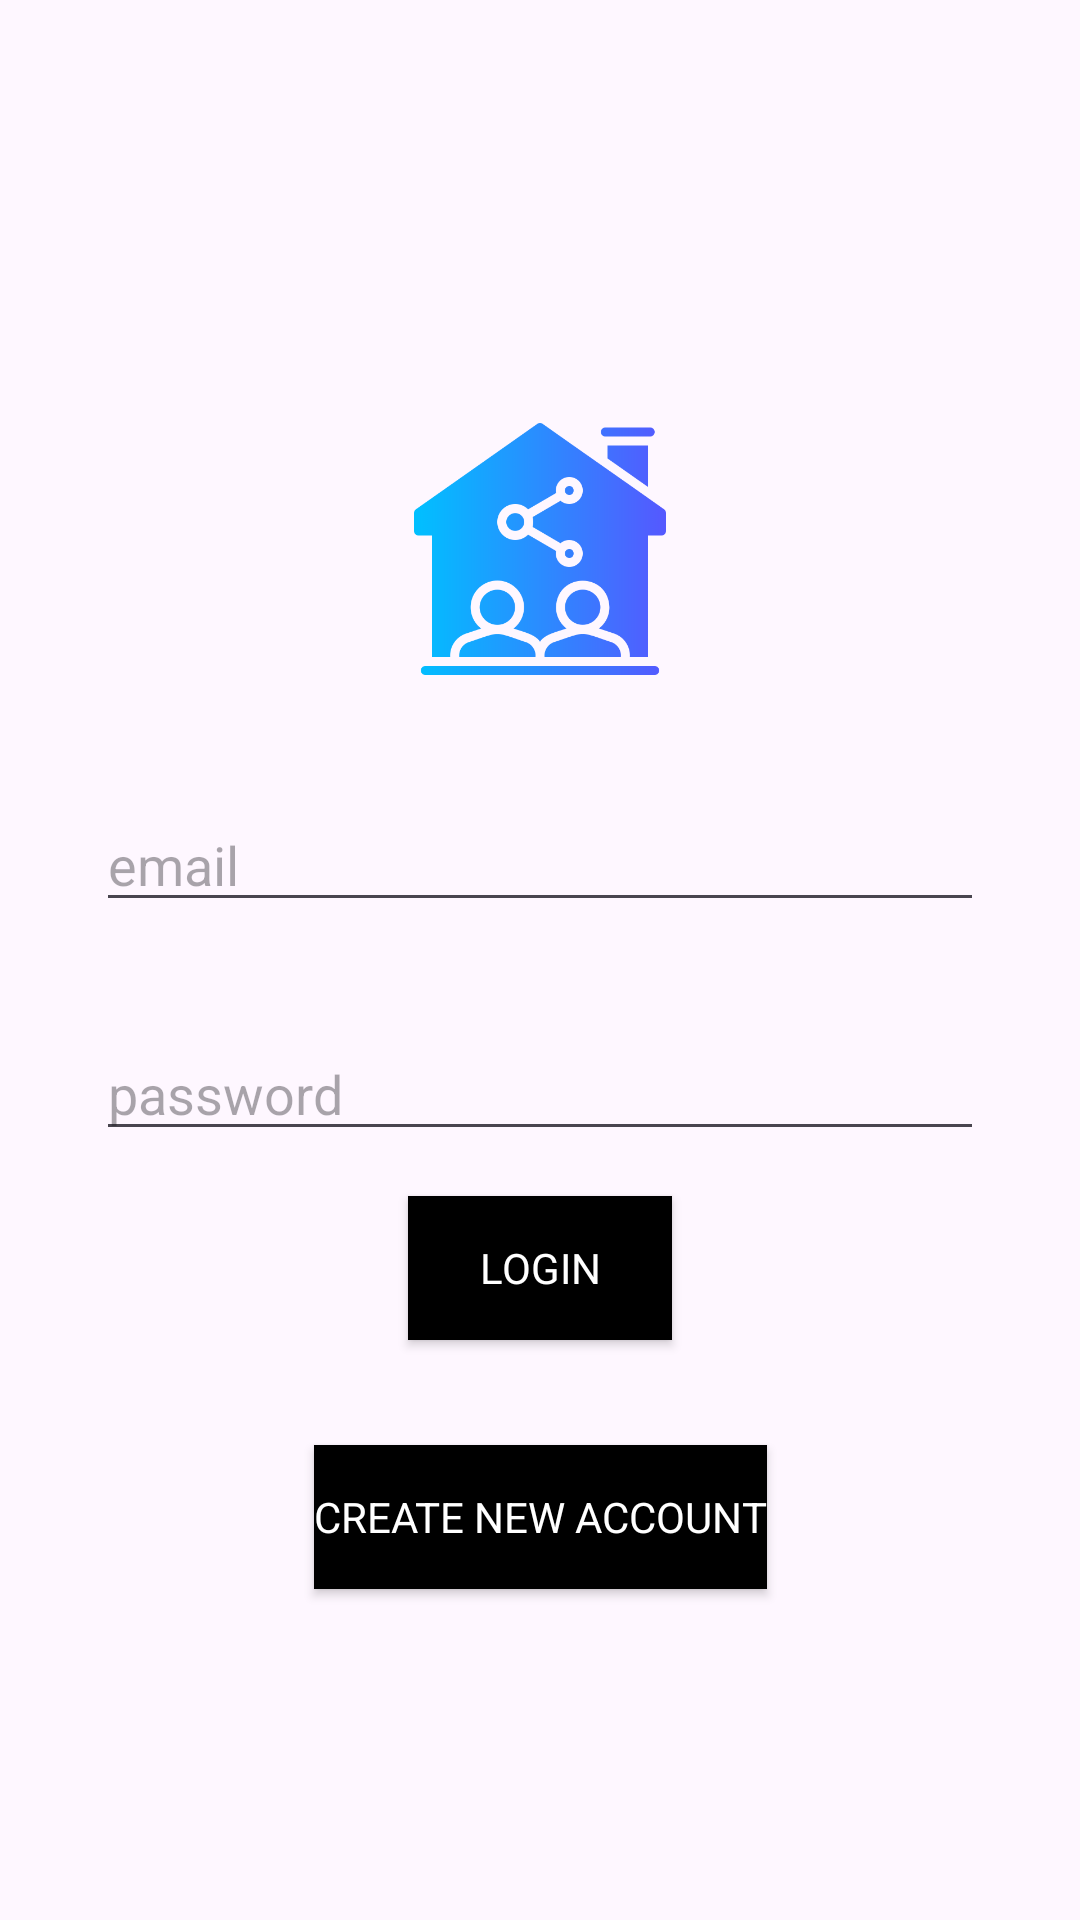

Icon click points for this 1080*1920 phone screenshot, format point (x, y):
houseicon: point (540, 549)
